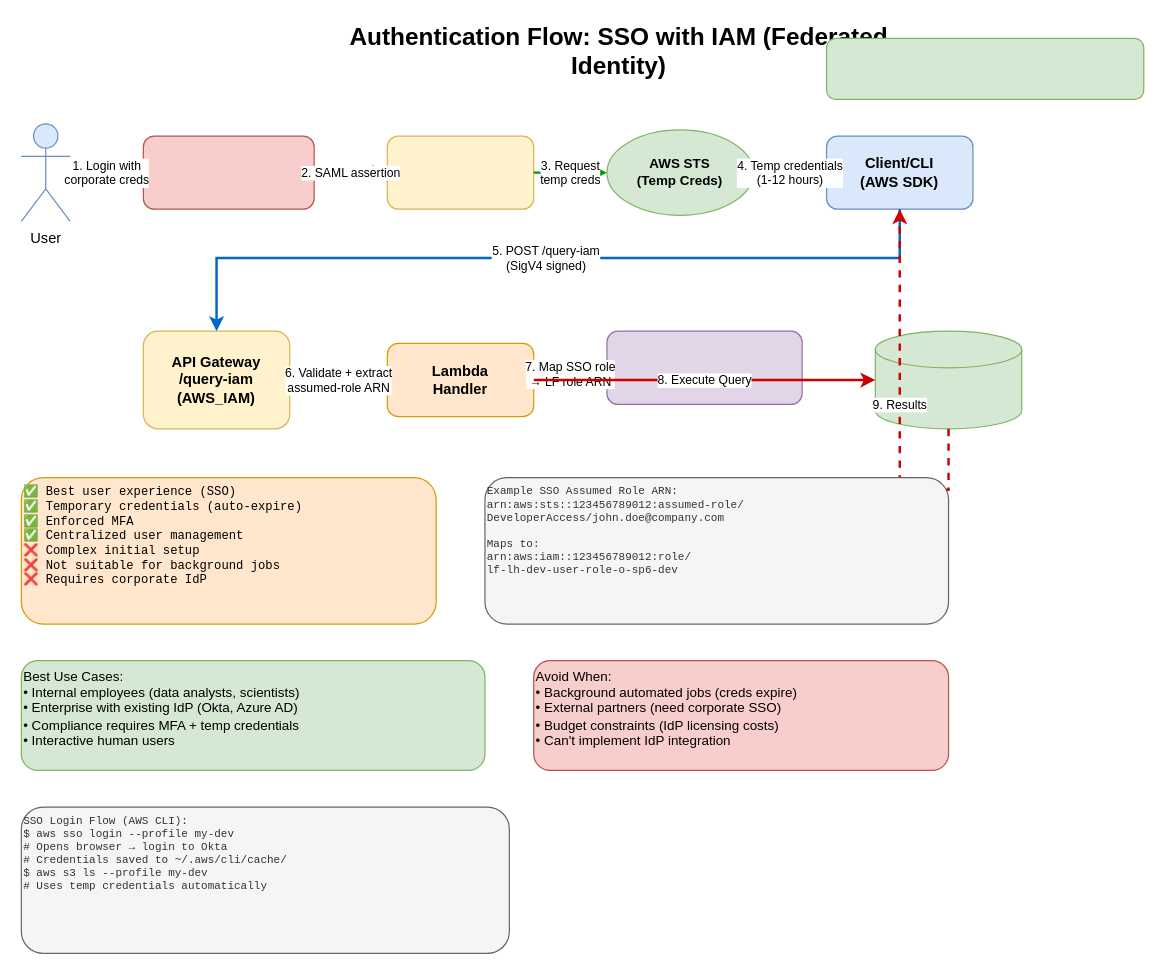
Image size: 1165x975. Some labels were removed from this diagram. The centre of each missing label's shape, as x and y in pixels:
"Athena (LF Role)" goes at pixel 948 379.
"AWS IAM Identity Center" goes at pixel 460 172.
"Identity Provider (Okta/Azure AD)" goes at pixel 228 172.
"Note: Steps 1-4 happen ONCE per session. Credentials valid 1-12 hours." goes at pixel 984 68.
"SSO Role Mapping assumed-role/* → LF role" goes at pixel 704 367.
